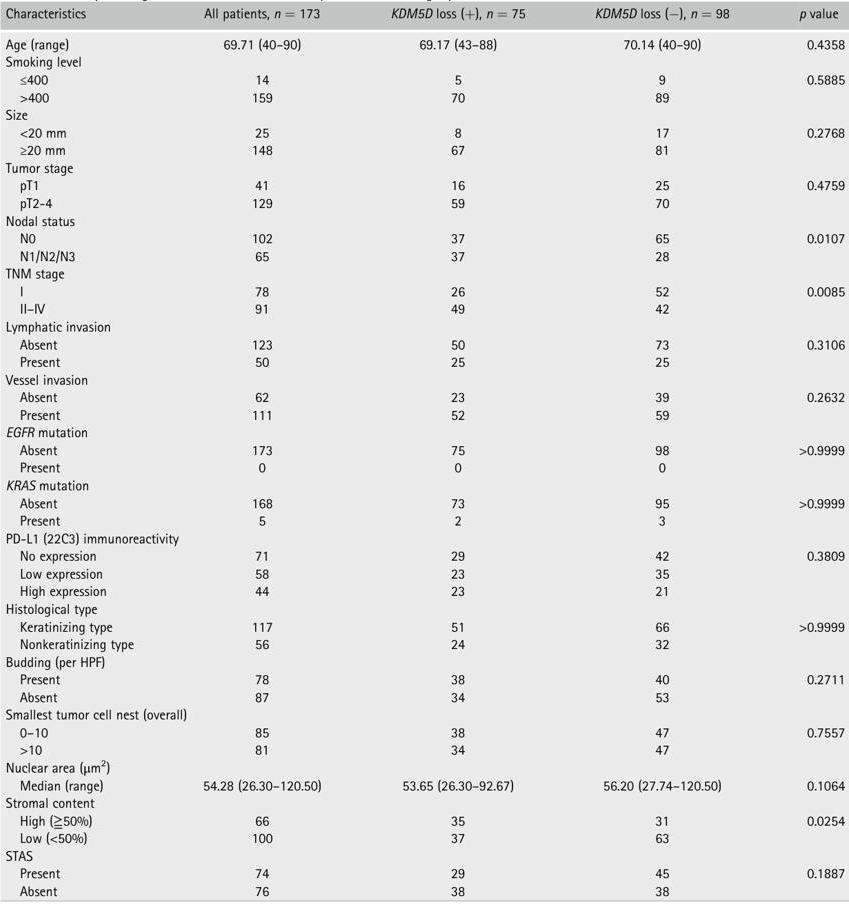table: (5, 4, 844, 898)
table column: (355, 4, 559, 898), (559, 4, 763, 898), (167, 4, 355, 898), (5, 4, 167, 898), (763, 4, 844, 898)
table column header: (5, 4, 844, 33)
table projected row header: (5, 757, 844, 776), (5, 52, 844, 70), (5, 105, 844, 123), (5, 369, 844, 387), (5, 422, 844, 440), (5, 475, 844, 493), (5, 528, 844, 546), (5, 158, 844, 175), (5, 211, 844, 228), (5, 264, 844, 281), (5, 317, 844, 334), (5, 599, 844, 616), (5, 652, 844, 669), (5, 705, 844, 722), (5, 793, 844, 810), (5, 846, 844, 863)
table row: (5, 4, 844, 33), (5, 33, 844, 52), (5, 757, 844, 776), (5, 810, 844, 829), (5, 52, 844, 70), (5, 87, 844, 105), (5, 105, 844, 123), (5, 140, 844, 158), (5, 175, 844, 193), (5, 193, 844, 211), (5, 228, 844, 246), (5, 246, 844, 264), (5, 281, 844, 299), (5, 299, 844, 317), (5, 334, 844, 352), (5, 369, 844, 387), (5, 387, 844, 405), (5, 422, 844, 440), (5, 440, 844, 458), (5, 475, 844, 493), (5, 493, 844, 511), (5, 528, 844, 546), (5, 546, 844, 564), (5, 581, 844, 599), (5, 616, 844, 634), (5, 634, 844, 652), (5, 669, 844, 687), (5, 687, 844, 705), (5, 722, 844, 740), (5, 863, 844, 881), (5, 70, 844, 87), (5, 123, 844, 140), (5, 158, 844, 175), (5, 211, 844, 228), (5, 264, 844, 281), (5, 317, 844, 334), (5, 352, 844, 369), (5, 405, 844, 422), (5, 458, 844, 475), (5, 511, 844, 528), (5, 564, 844, 581), (5, 599, 844, 616), (5, 652, 844, 669), (5, 705, 844, 722), (5, 740, 844, 757), (5, 776, 844, 793), (5, 793, 844, 810), (5, 829, 844, 846), (5, 846, 844, 863), (5, 881, 844, 898)
